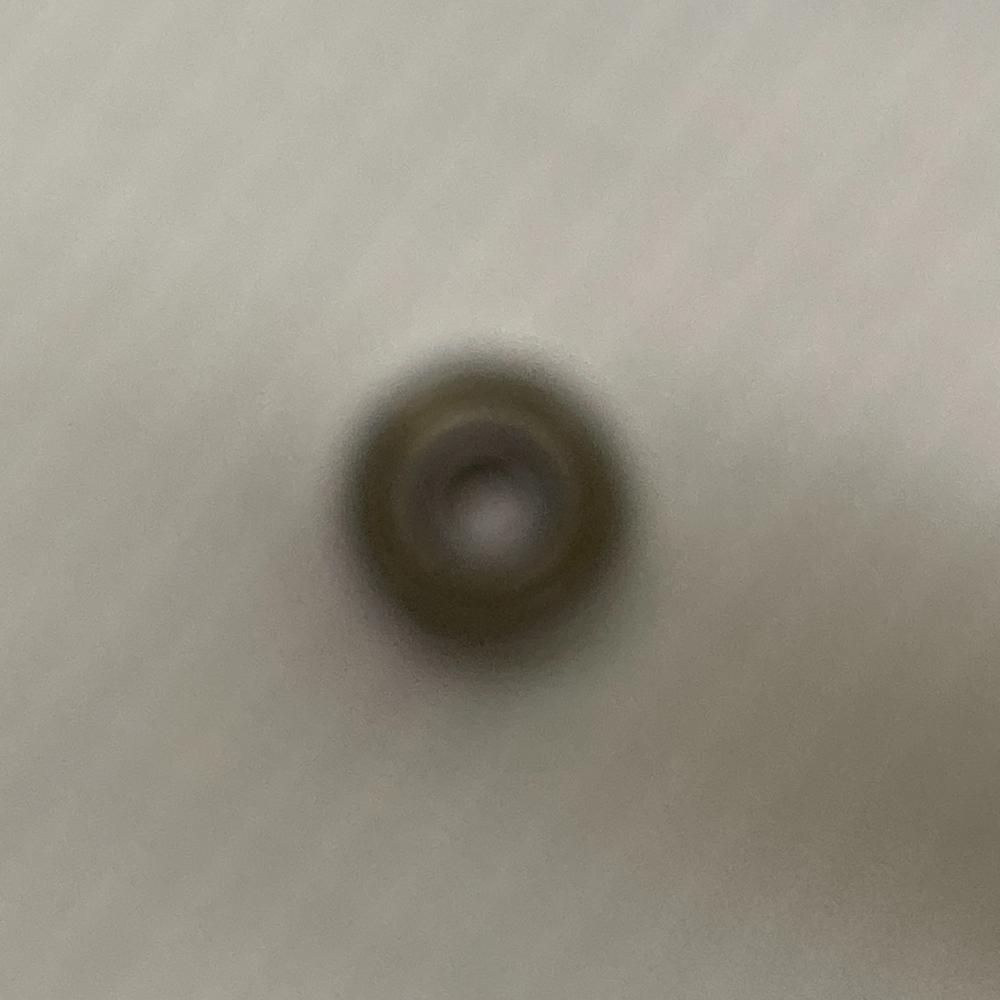ball_bearing: (346, 358, 623, 651)
